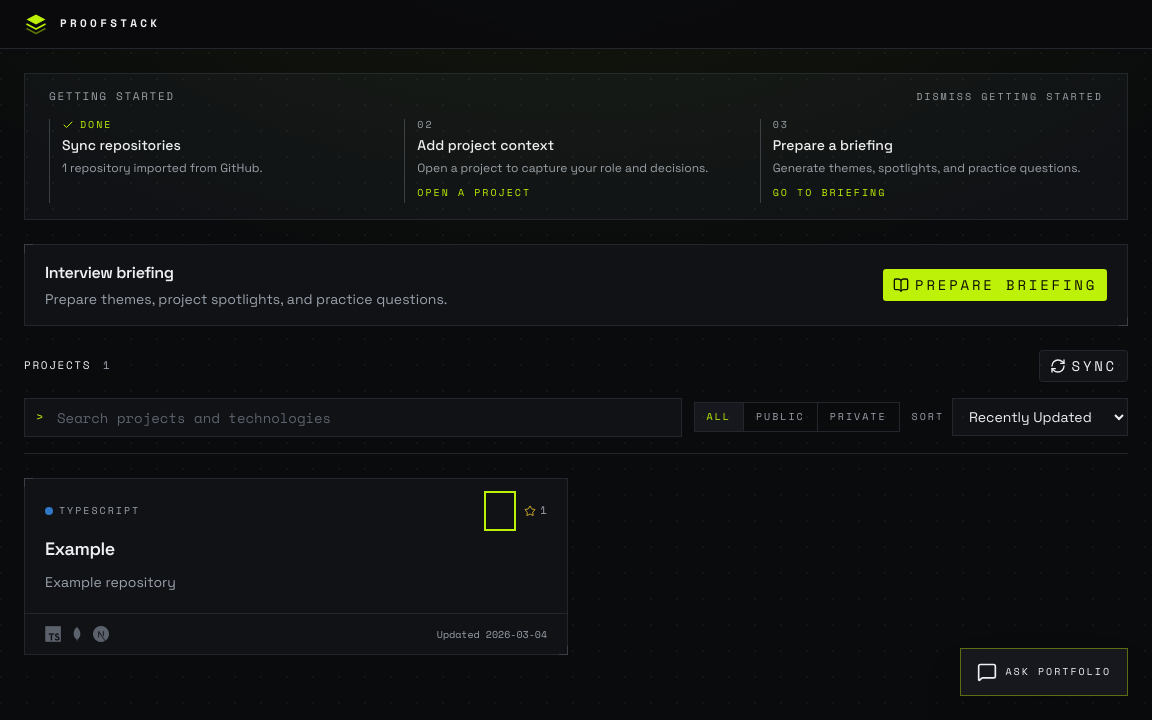
Test: names search and GitHub links and exposes selected sorting
Select "Alphabetical" in the dropdown named "Sort projects" at point(1040, 417), box [952,398,1128,436]
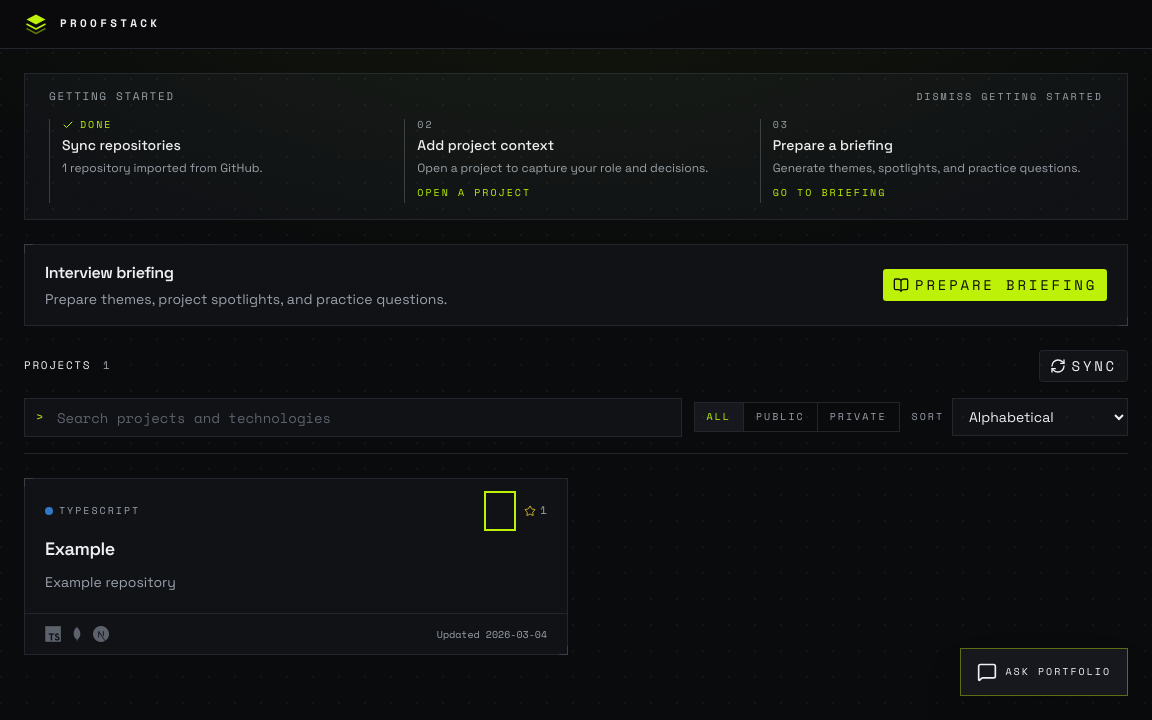
Type "missing" into the field labelled "Search projects and technologies".
click(353, 417); type("missing")  # box [24,398,682,437]
(page scrolled)
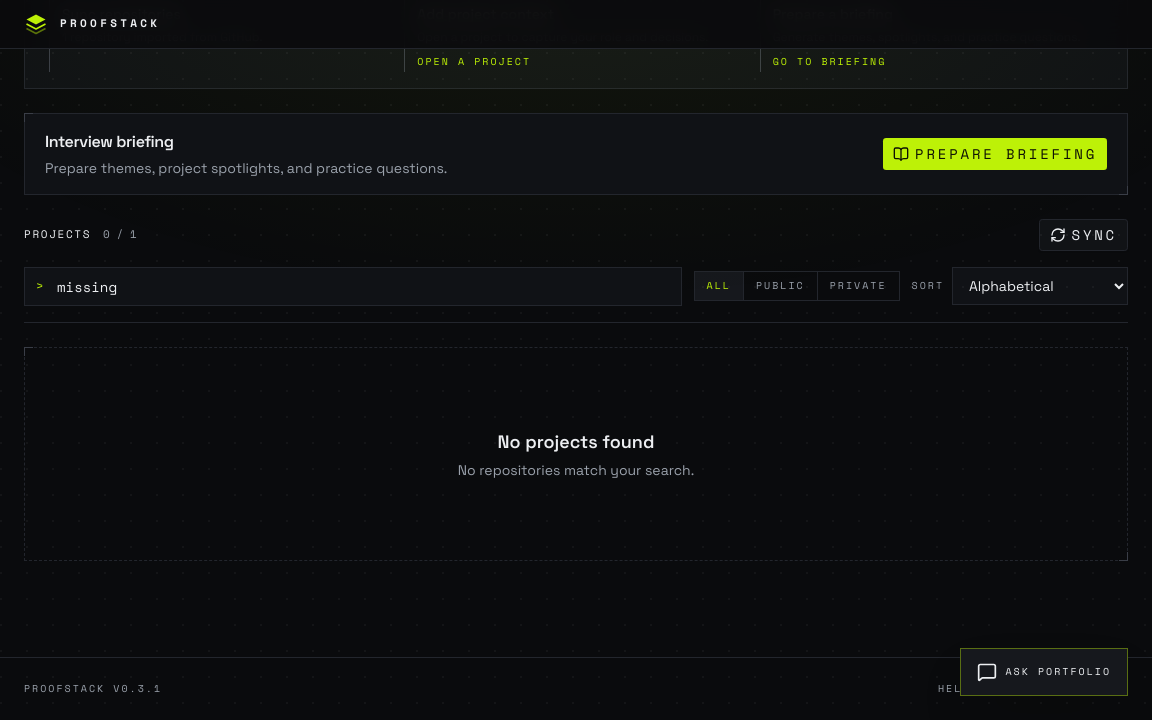
Now the heading "No projects found" is shown, box [498,428,654,456]
